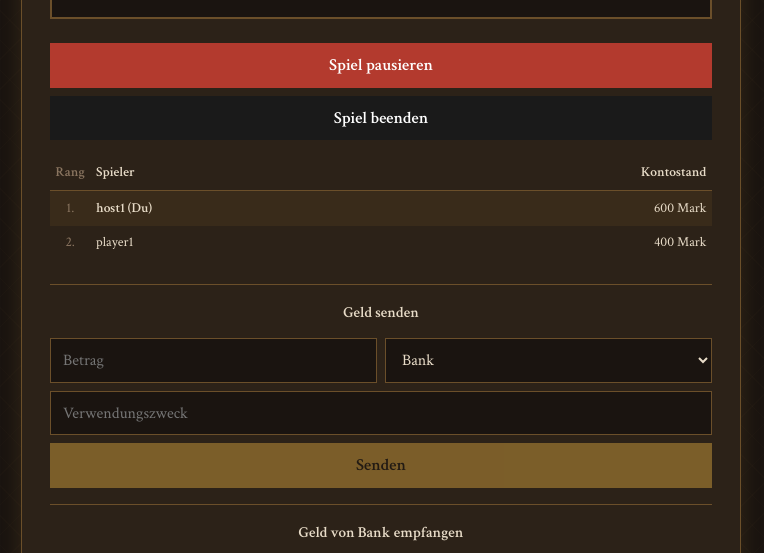
it: DashboardPage › zeigt Erfolgsmeldung nach Überweisung
The width and height of the screenshot is (764, 553).
(page scrolled)
Expected: the text "Geld senden" is shown, [343,303,419,322]
In the number field with placeholder "Betrag" below "Geld senden": (214, 360) [50,338,377,383], type "100"
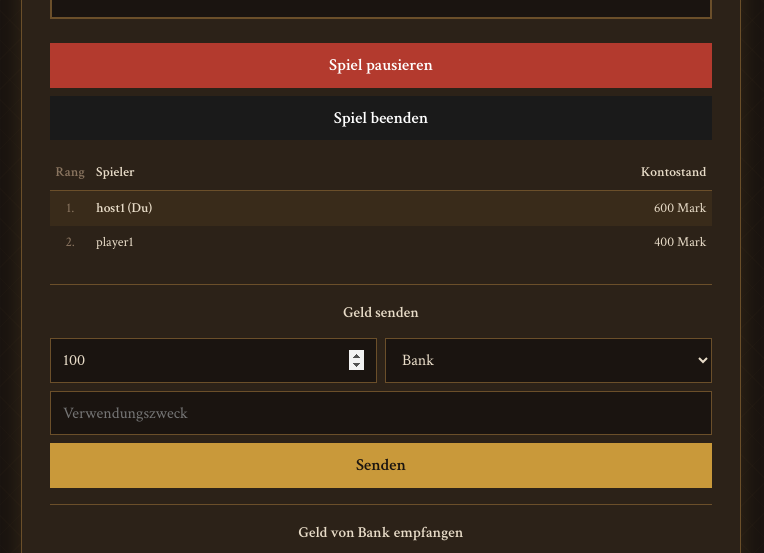
Click the button "Senden": click(381, 466) [50,443,712,488]
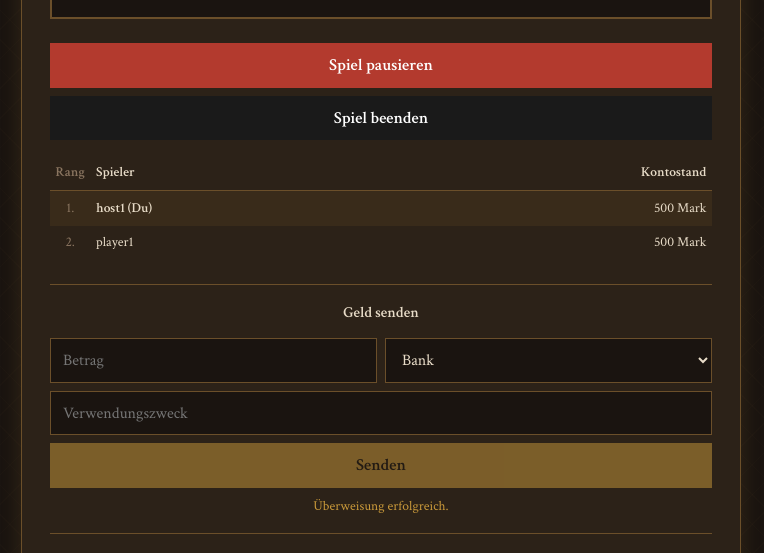
Expected: the text "Überweisung erfolgreich." is shown, [313,496,449,514]
